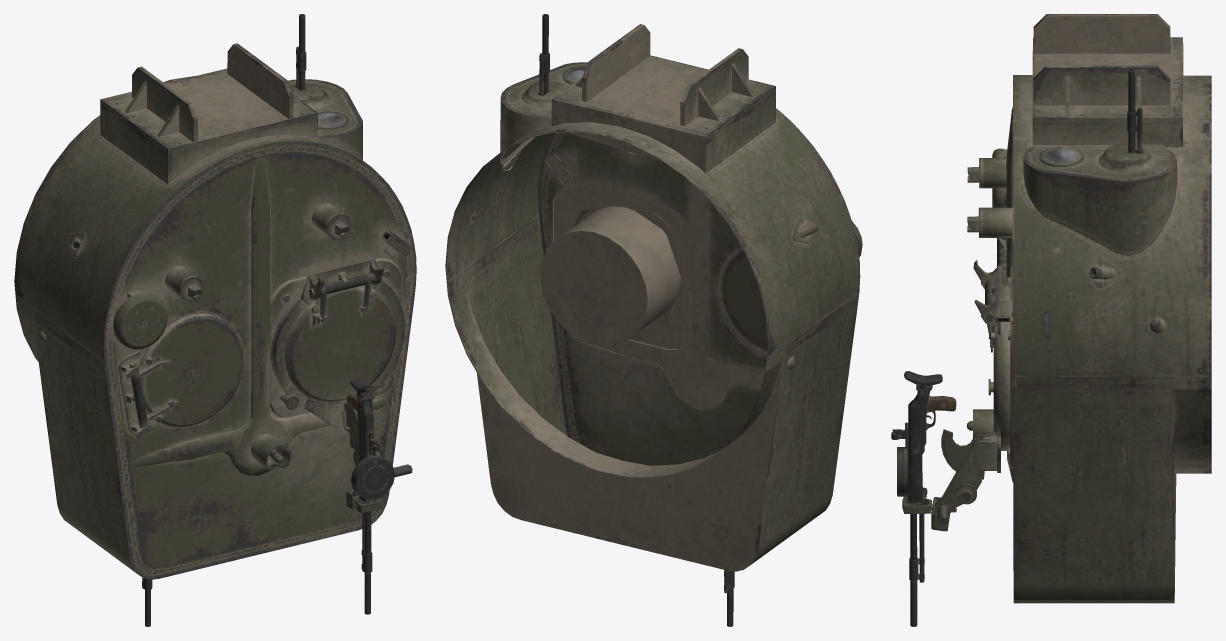
File: Turret_01.glb
The picture shows the model from 3 angles, left to right: view 1: azimuth 30°, elevation 25°; view 2: azimuth 150°, elevation 25°; view 3: azimuth 270°, elevation 25°; orthographic projection. The views are drawn at different scales.
Parts seen in each view (by area): view 1: set_0_group_0; view 2: set_0_group_0; view 3: set_0_group_0.
Boxes of the visible parts, <box> form: set_0_group_0: <box>14,14,416,626</box>; set_0_group_0: <box>445,14,862,626</box>; set_0_group_0: <box>891,14,1211,626</box>.
Size of the model in its own units: 1.52 by 2.59 by 1.22.
1 material, 1 textured.
